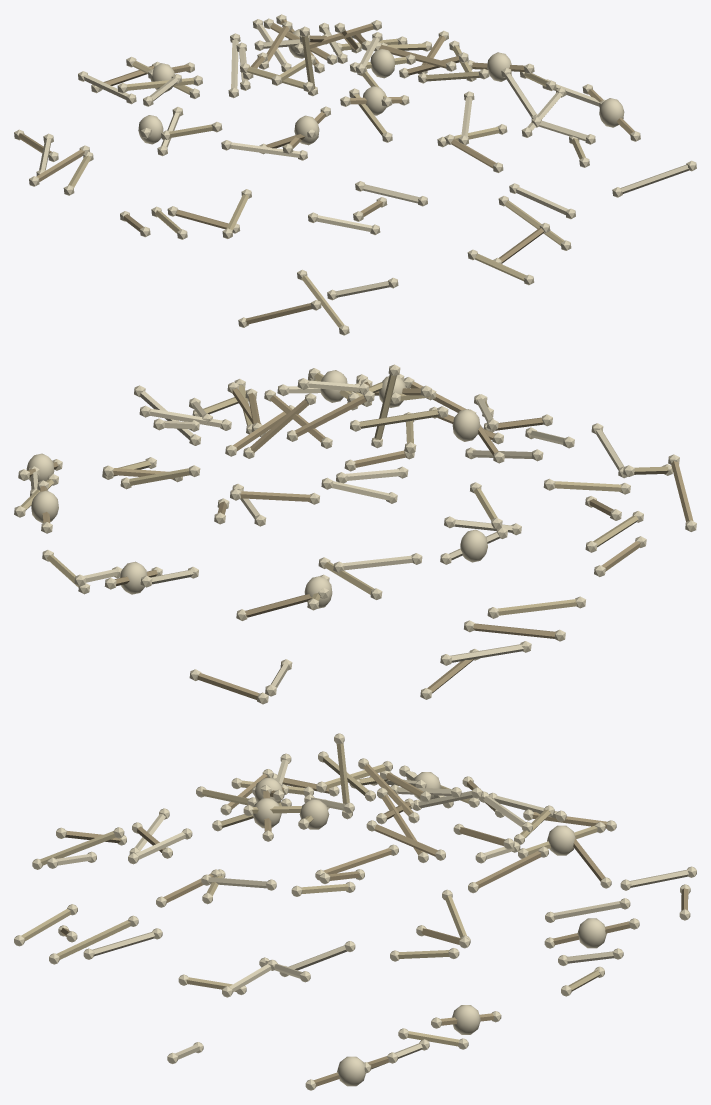
File: bone_heap_block.glb
3 renders of one model, top to bottom at view 1: azimuth 30°, elevation 25°; view 2: azimuth 150°, elevation 25°; view 3: azimuth 270°, elevation 25°, orthographic. The views are drawn at different scales.
Visible parts, largest first — view 1: bone_heap; view 2: bone_heap; view 3: bone_heap.
Part boxes in pixels (x1=…): bone_heap: x1=14, y1=14, x2=696, y2=335; bone_heap: x1=14, y1=364, x2=696, y2=704; bone_heap: x1=14, y1=733, x2=696, y2=1090.
Bounding box in the file's own units: 6.2 × 2.05 × 6.45.
